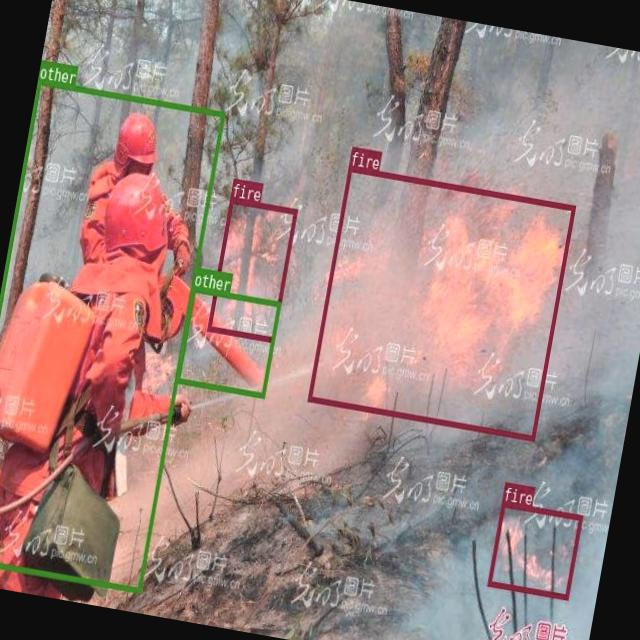fire: (306, 165, 574, 440), (206, 196, 296, 342), (487, 500, 582, 598)
